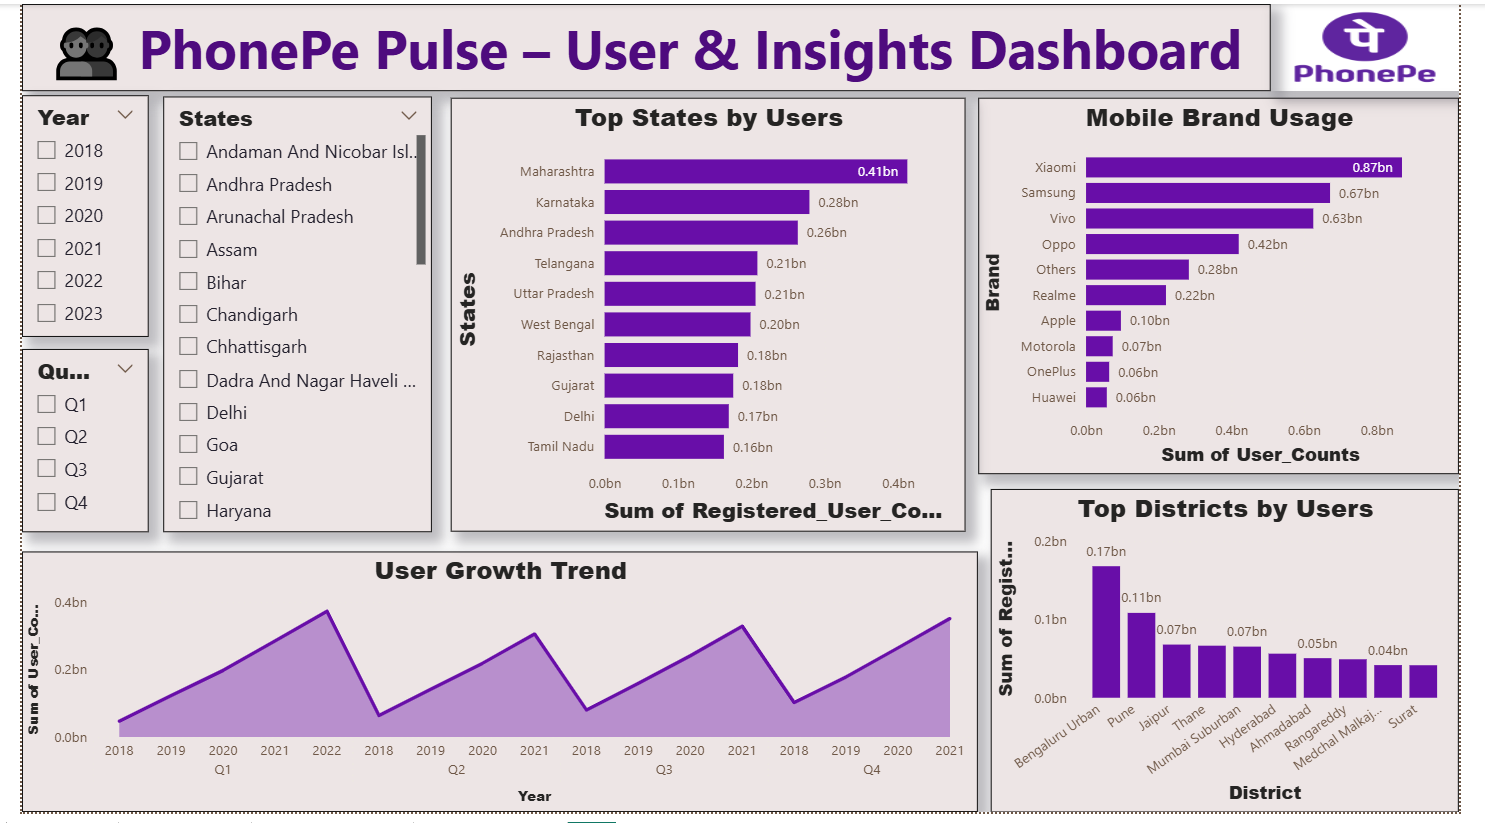

The dashboard page shown, as its layout file describes it:
{"tool":"powerbi","page":{"name":"User and insight","canvas":[1280,720],"ordinal":2},"visuals":[{"type":"textbox","box":[0,0,1111.7,77.3],"z":0},{"type":"slicer","fields":{"Values":["Date_table.Year"]},"box":[0,80.8,112.5,215],"z":1000},{"type":"slicer","fields":{"Values":["Date_table.Quarter"]},"box":[0,307.3,112.5,163],"z":2000},{"type":"slicer","fields":{"Values":["State_Table.States"]},"box":[125.5,82.2,239.5,388.1],"z":3000},{"type":"lineChart","title":"User Growth Trend","fields":{"Category":["Date_table.Quarter","Date_table.Year"],"Y":["Sum(aggregated_user.User_Counts)"]},"box":[0,487.7,851.2,232.3],"z":4000},{"type":"clusteredBarChart","title":"Mobile Brand Usage","fields":{"Category":["aggregated_user.Brand"],"Y":["Sum(aggregated_user.User_Counts)"]},"box":[851.5,83.4,428.2,335],"z":5000},{"type":"clusteredBarChart","title":"Top States by Users","fields":{"Category":["top_user.States"],"Y":["Sum(top_user.Registered_User_Counts)"]},"box":[382.3,83.7,458.8,386.7],"z":6000},{"type":"columnChart","title":"Top Districts by Users","fields":{"Category":["top_user.District"],"Y":["Sum(top_user.Registered_User_Counts)"]},"box":[863.1,432.3,416.9,287.7],"z":7000},{"type":"image","box":[1111.7,0,168.1,77.3],"z":7001}]}

Visuals, with their boxes in screenshot pixels (x1, y1, x2, y2), scaled from the page's 1280x720 canvas onto the 1485x823 screenshot:
textbox: left=0, top=0, right=1290, bottom=88
slicer - Date_table.Year: left=0, top=92, right=131, bottom=338
slicer - Date_table.Quarter: left=0, top=351, right=131, bottom=538
slicer - State_Table.States: left=146, top=94, right=423, bottom=538
"User Growth Trend" lineChart: left=0, top=557, right=988, bottom=822
"Mobile Brand Usage" clusteredBarChart: left=988, top=95, right=1484, bottom=478
"Top States by Users" clusteredBarChart: left=444, top=96, right=976, bottom=538
"Top Districts by Users" columnChart: left=1001, top=494, right=1484, bottom=822
image: left=1290, top=0, right=1484, bottom=88
